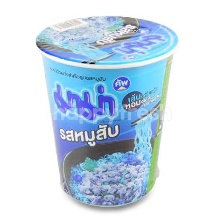paper_cup: (30, 9, 184, 212)
